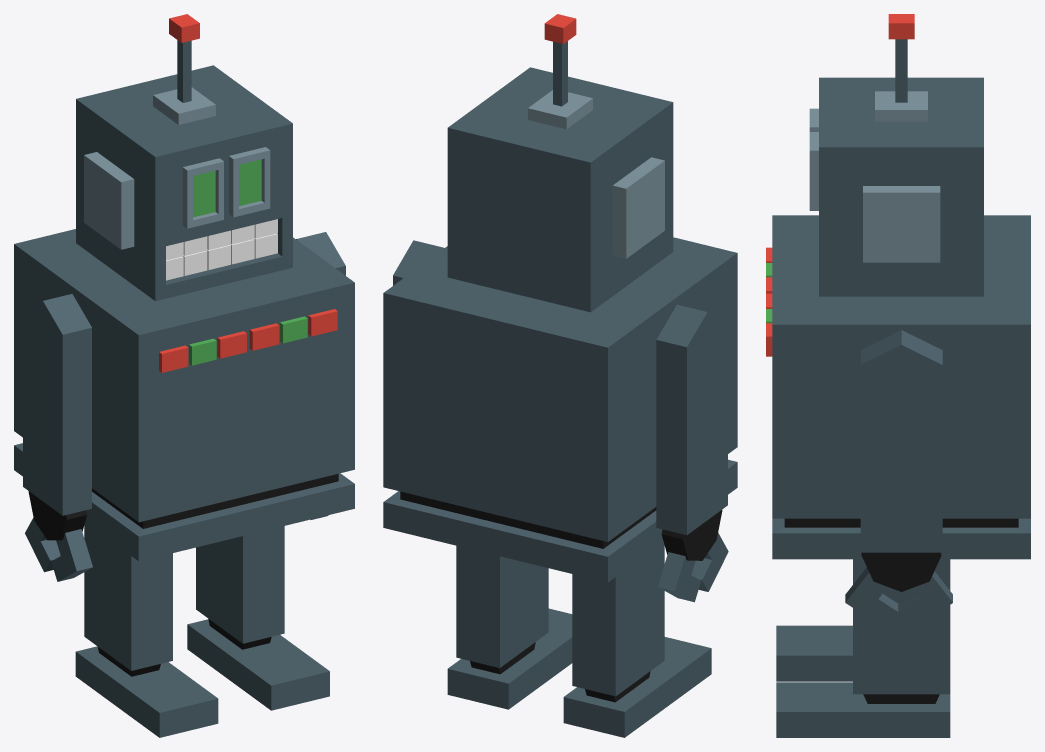
File: Robot_01.gltf
The picture shows the model from 3 angles, left to right: view 1: azimuth 30°, elevation 25°; view 2: azimuth 150°, elevation 25°; view 3: azimuth 270°, elevation 25°; orthographic projection. The views are drawn at different scales.
Visible parts, largest first — view 1: node-0; view 2: node-0; view 3: node-0.
Part boxes in pixels (x1,y1,x2,y2): node-0: [14, 14, 354, 737]; node-0: [383, 14, 737, 737]; node-0: [766, 14, 1030, 737].
Bounding box in the file's own units: 13.1 × 28.84 × 10.24.
